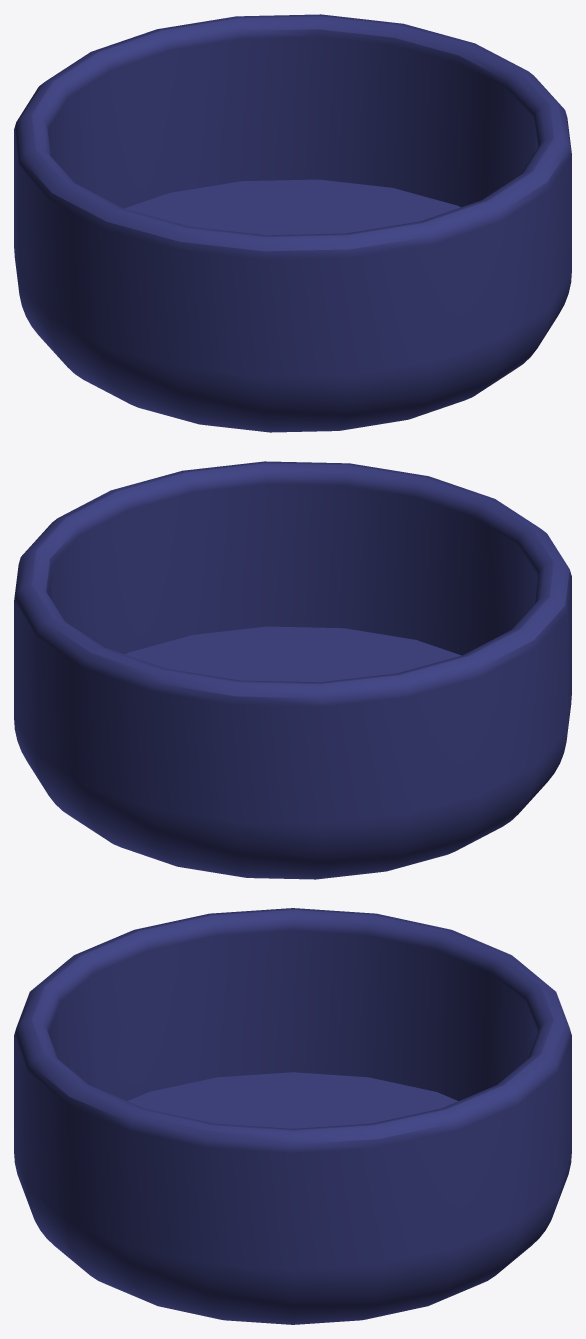
Rendered from cat_bowl.fbx.
The picture shows the model from 3 angles, top to bottom: view 1: azimuth 30°, elevation 25°; view 2: azimuth 150°, elevation 25°; view 3: azimuth 270°, elevation 25°; orthographic projection.
Parts seen in each view (by area): view 1: pasted__pCylinder1; view 2: pasted__pCylinder1; view 3: pasted__pCylinder1.
Boxes of the visible parts, box(x1,y1,x2,y2) form: pasted__pCylinder1: box(14, 14, 571, 432); pasted__pCylinder1: box(14, 461, 571, 879); pasted__pCylinder1: box(14, 908, 571, 1324).
Size of the model in its own units: 12.63 by 5.47 by 12.63.
